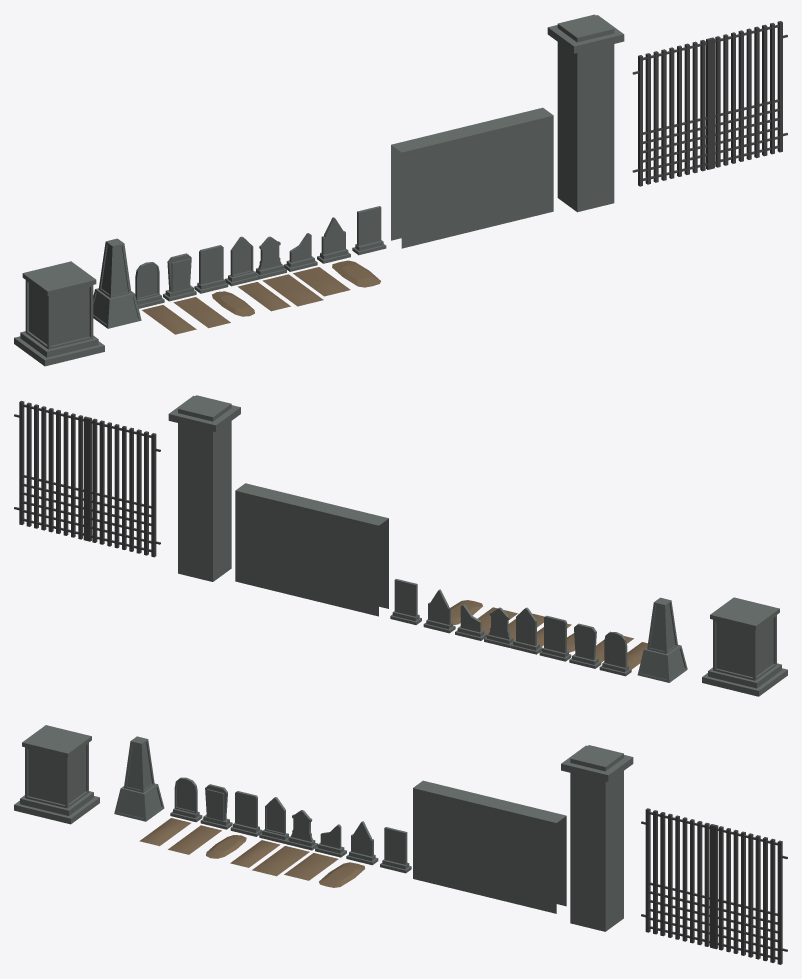
File: graveyardPack.fbx
3 views of the same model, one above another, from view 1: azimuth 30°, elevation 25°; view 2: azimuth 150°, elevation 25°; view 3: azimuth 330°, elevation 25° (orthographic). The views are drawn at different scales.
Visible parts, largest first — view 1: Object.012, Object.014, Object.011, Object.009, Object.010, Plane005.001, Object007.001, Object002.001, Plane006.001, Object, Object001.001, Plane002.001 (+6 smaller); view 2: Object.012, Object.014, Object.011, Object.009, Object.010, Object007.001, Object002.001, Object, Object001.001, Object003.001, Object006.001; view 3: Object.012, Object.014, Object.011, Object.009, Object.010, Plane005.001, Object007.001, Plane006.001, Object002.001, Object, Object001.001, Plane002.001 (+7 smaller).
Part boxes in pixels (x1,y1,x2,y2): Object.012: (391, 107, 553, 248); Object.014: (638, 21, 782, 186); Object.011: (547, 14, 624, 212); Object.009: (14, 261, 104, 366); Object.010: (93, 238, 141, 328); Plane005.001: (262, 274, 323, 306); Object007.001: (357, 206, 381, 245); Object002.001: (199, 245, 223, 284); Plane006.001: (293, 267, 350, 296); Object: (135, 262, 159, 300); Object001.001: (167, 253, 191, 292); Plane002.001: (173, 297, 230, 328); Object.012: (235, 483, 388, 616); Object.014: (19, 400, 156, 557); Object.011: (168, 395, 240, 581); Object.009: (702, 597, 787, 696); Object.010: (637, 597, 687, 682); Object007.001: (394, 579, 417, 616); Object002.001: (544, 615, 566, 653); Object: (604, 631, 627, 667); Object001.001: (574, 623, 596, 659); Object003.001: (516, 607, 536, 645); Object006.001: (428, 589, 450, 624); Object.012: (413, 780, 566, 913); Object.014: (645, 808, 782, 964); Object.011: (561, 745, 633, 931); Object.009: (14, 725, 99, 824); Object.010: (114, 736, 164, 821); Plane005.001: (252, 846, 309, 876); Object007.001: (384, 827, 407, 864); Plane006.001: (284, 853, 338, 880); Object002.001: (235, 791, 257, 828); Object: (174, 777, 197, 813); Object001.001: (205, 784, 227, 820); Plane002.001: (168, 825, 221, 854).
Size of the model in its own units: 1148 by 245 by 132.
